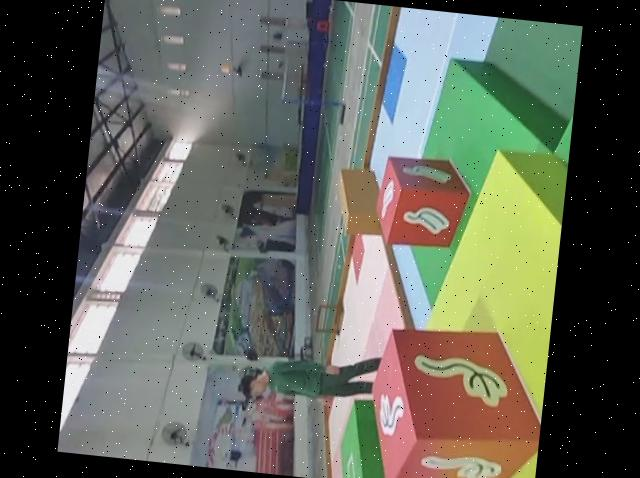R2 Real: (362, 318, 550, 478), (371, 151, 474, 254)
